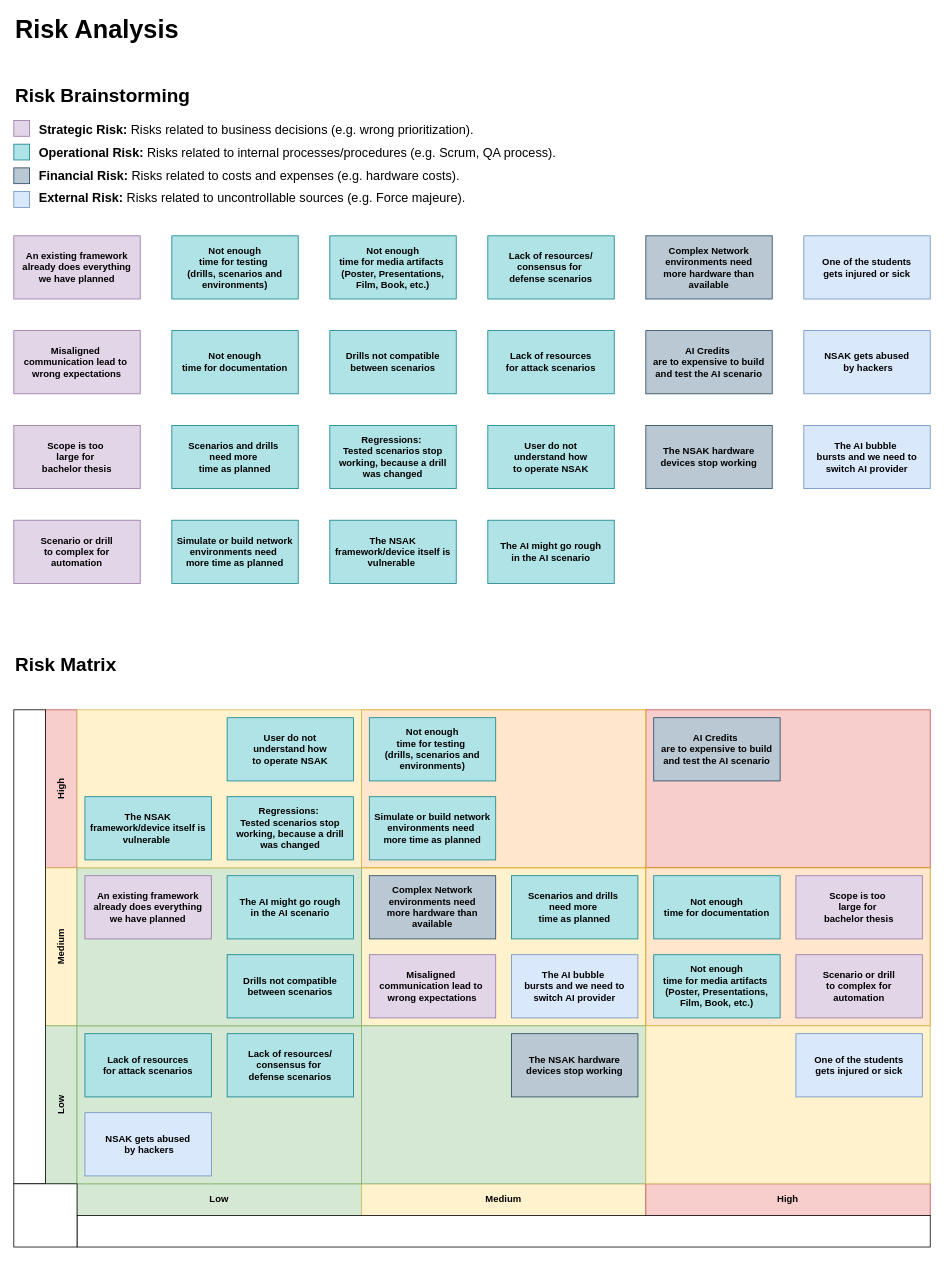
Image size: 944x1261. Some labels were removed from this diagram. The shapes that lost their labels are listed below. From the top down, each one's centre as x and y in pixels, then its label:
point 29,946: Probability
point 503,1231: Impact
